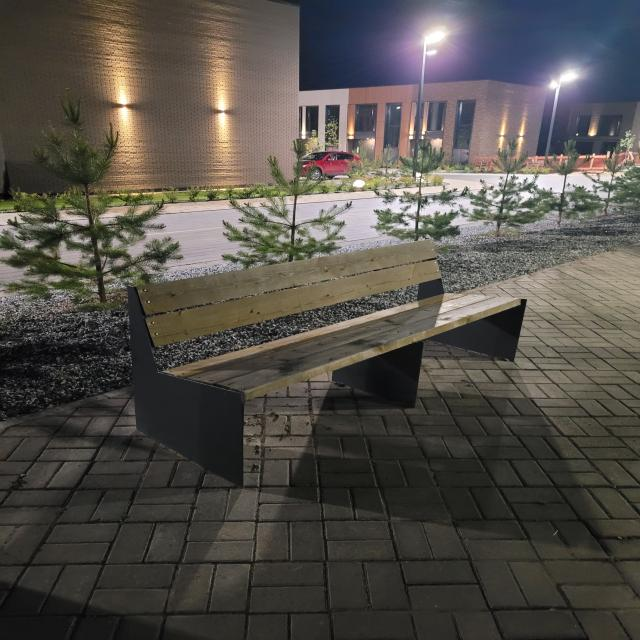Bench: (128, 240, 527, 488)
